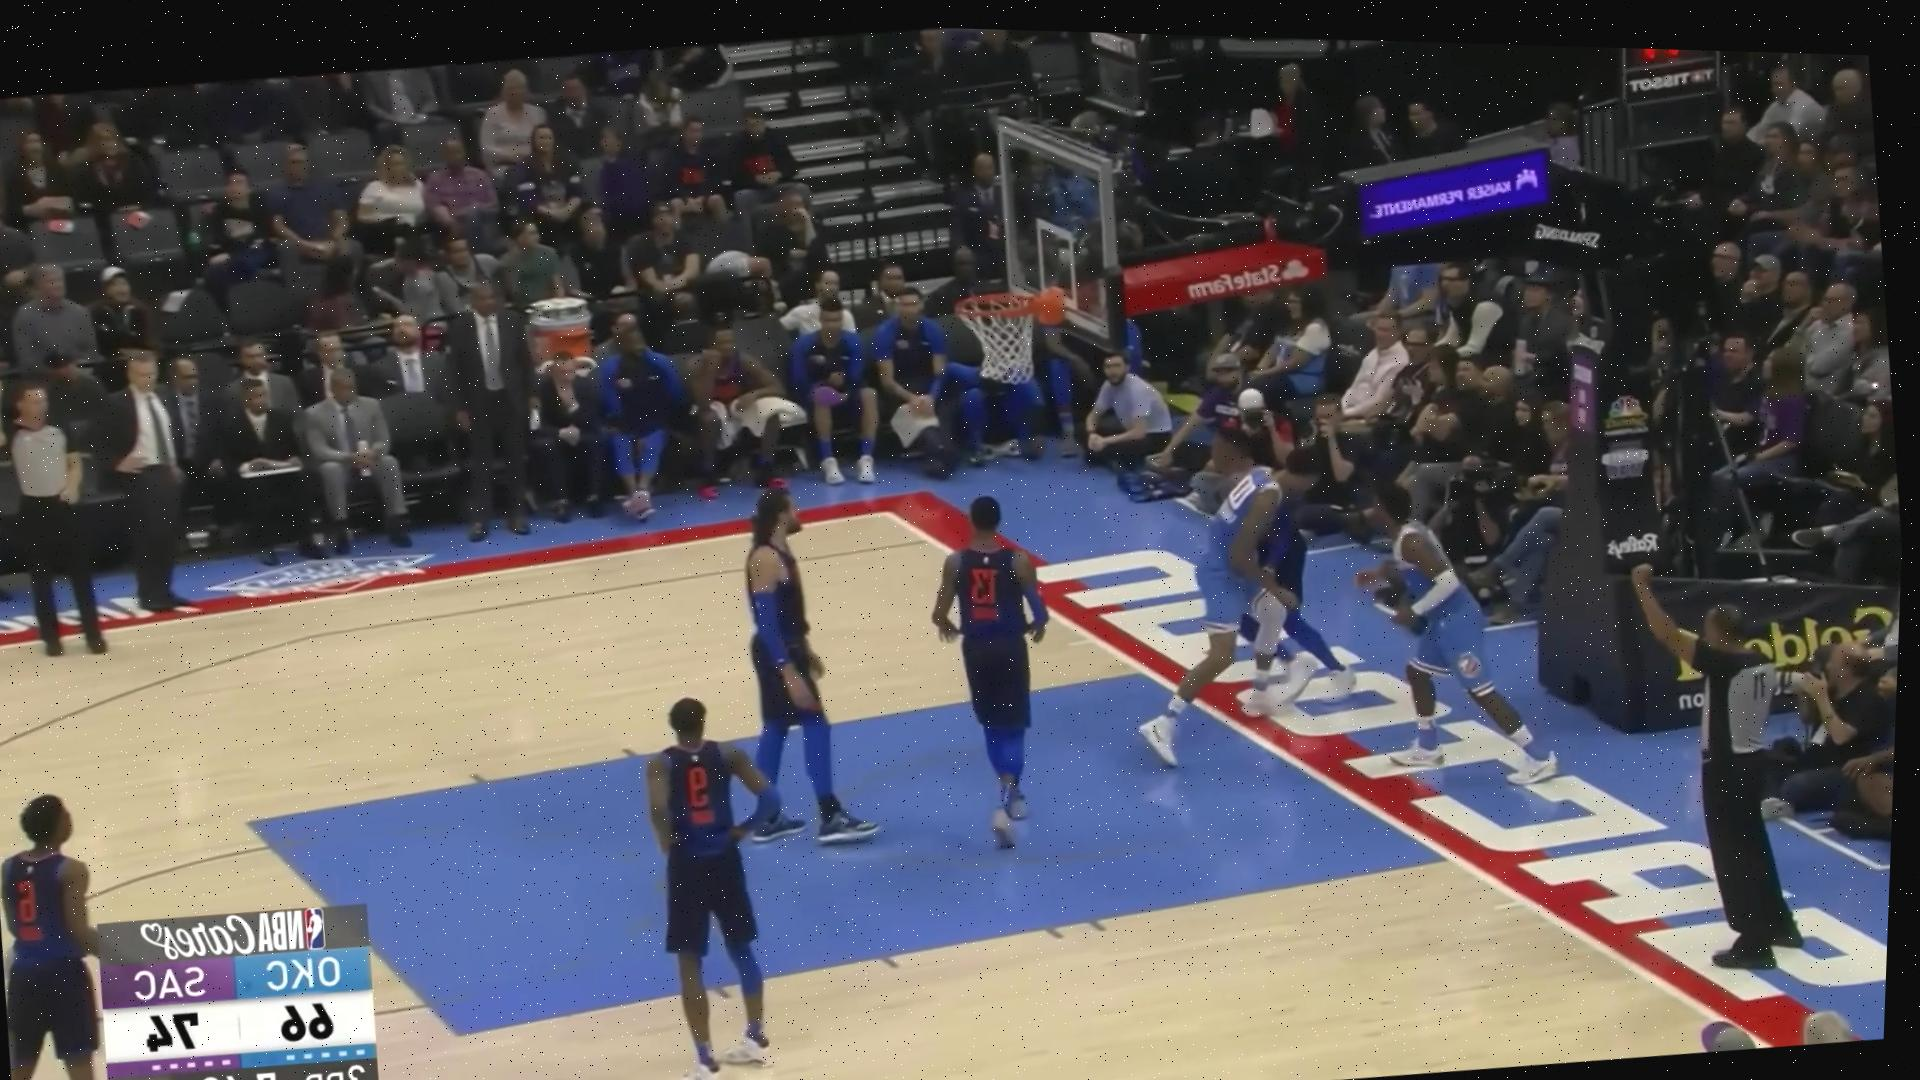foul: (1084, 411, 1399, 767)
